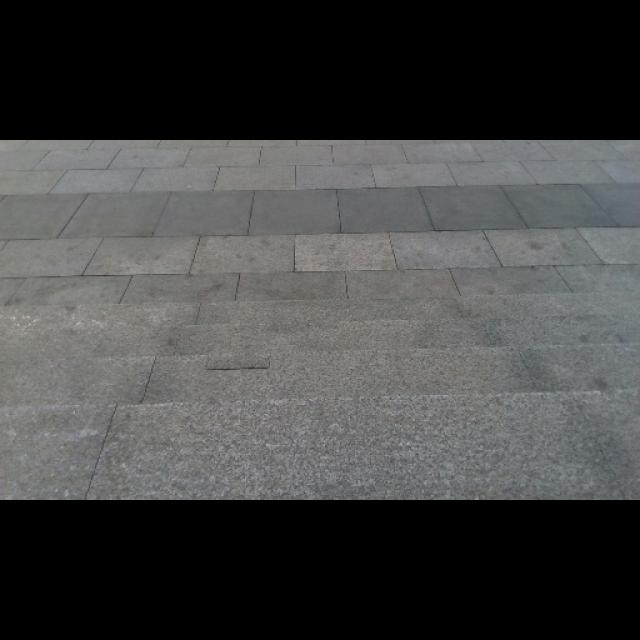stair: (9, 294, 640, 484)
